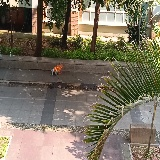fire: (54, 63, 63, 73)
